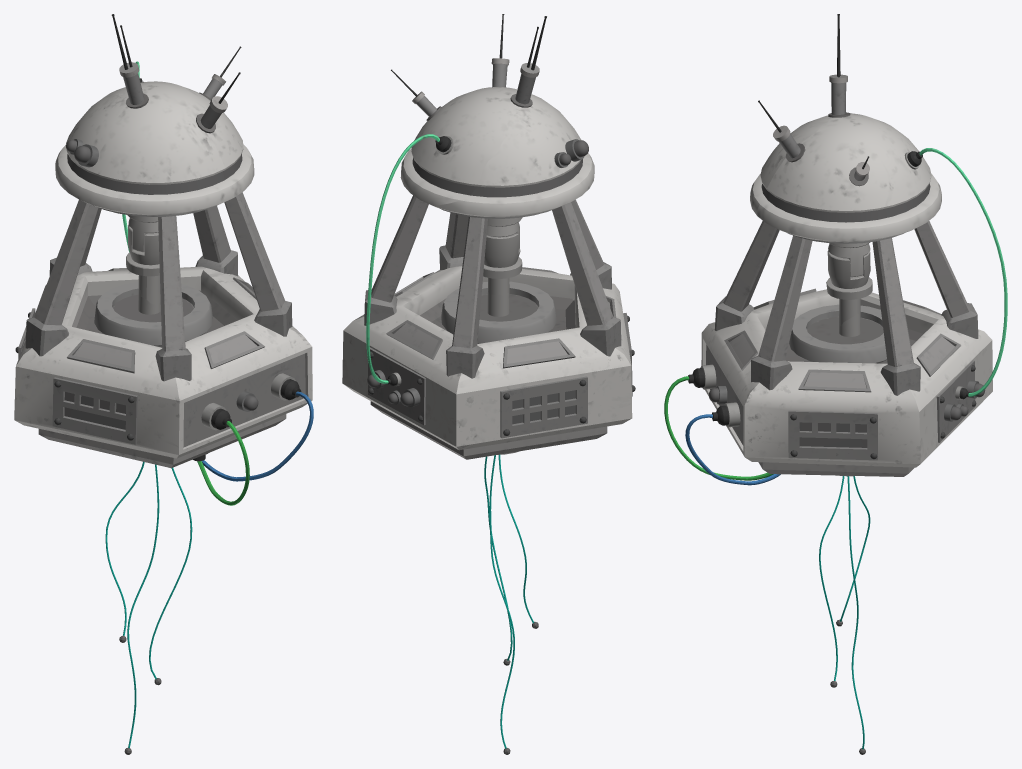
Rendered from ChalDeep_Probe_Cut.fbx.
3 views of the same model, side by side, from view 1: azimuth 30°, elevation 25°; view 2: azimuth 150°, elevation 25°; view 3: azimuth 270°, elevation 25° (orthographic). The views are drawn at different scales.
Visible parts, largest first — view 1: chalDeep_base.011, chalDeep_base.081, chalDeep_base.058, chalDeep_base.045, chalDeep_base.043, chalDeep_base.039, chalDeep_base.044, chalDeep_base.075, chalDeep_base.076, chalDeep_base.078, chalDeep_base.042, chalDeep_base.077 (+10 smaller); view 2: chalDeep_base.011, chalDeep_base.081, chalDeep_base.078, chalDeep_base.045, chalDeep_base.012, chalDeep_base.058, chalDeep_base.044, chalDeep_base.039, chalDeep_base.088, chalDeep_base.038, chalDeep_base.040, chalDeep_base.075 (+7 smaller); view 3: chalDeep_base.011, chalDeep_base.045, chalDeep_base.078, chalDeep_base.058, chalDeep_base.044, chalDeep_base.043, chalDeep_base.042, chalDeep_base.088, chalDeep_base.081, chalDeep_base.076, chalDeep_base.038, chalDeep_base.071 (+8 smaller).
Part boxes in pixels (box(x1,y1,x2,y2)): chalDeep_base.011: box(14, 268, 312, 468); chalDeep_base.081: box(55, 91, 233, 216); chalDeep_base.058: box(94, 282, 212, 347); chalDeep_base.045: box(100, 81, 254, 197); chalDeep_base.043: box(155, 216, 191, 381); chalDeep_base.039: box(25, 272, 76, 356); chalDeep_base.044: box(193, 205, 237, 276); chalDeep_base.075: box(51, 199, 98, 277); chalDeep_base.076: box(232, 212, 270, 284); chalDeep_base.078: box(81, 266, 205, 295); chalDeep_base.042: box(224, 192, 292, 336); chalDeep_base.077: box(252, 264, 284, 311); chalDeep_base.011: box(354, 266, 632, 459); chalDeep_base.081: box(434, 87, 594, 218); chalDeep_base.078: box(342, 305, 465, 459); chalDeep_base.045: box(400, 87, 512, 210); chalDeep_base.012: box(500, 376, 587, 438); chalDeep_base.058: box(441, 281, 556, 343); chalDeep_base.044: box(364, 195, 428, 325); chalDeep_base.039: box(573, 268, 621, 356); chalDeep_base.088: box(446, 294, 484, 378); chalDeep_base.038: box(368, 347, 425, 425); chalDeep_base.040: box(458, 217, 487, 300); chalDeep_base.075: box(552, 202, 594, 280); chalDeep_base.011: box(701, 288, 944, 476); chalDeep_base.045: box(755, 115, 941, 243); chalDeep_base.078: box(908, 318, 992, 473); chalDeep_base.058: box(789, 304, 886, 363); chalDeep_base.044: box(872, 238, 920, 395); chalDeep_base.043: box(714, 221, 779, 330); chalDeep_base.042: box(751, 235, 812, 390); chalDeep_base.088: box(932, 272, 978, 338); chalDeep_base.081: box(750, 113, 941, 215); chalDeep_base.076: box(769, 264, 804, 331); chalDeep_base.038: box(936, 360, 975, 442); chalDeep_base.071: box(827, 251, 870, 288).
Size of the model in its own units: 1.41 by 3.9 by 1.67.
